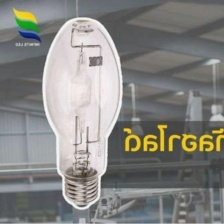light_bulb: (37, 12, 126, 214)
